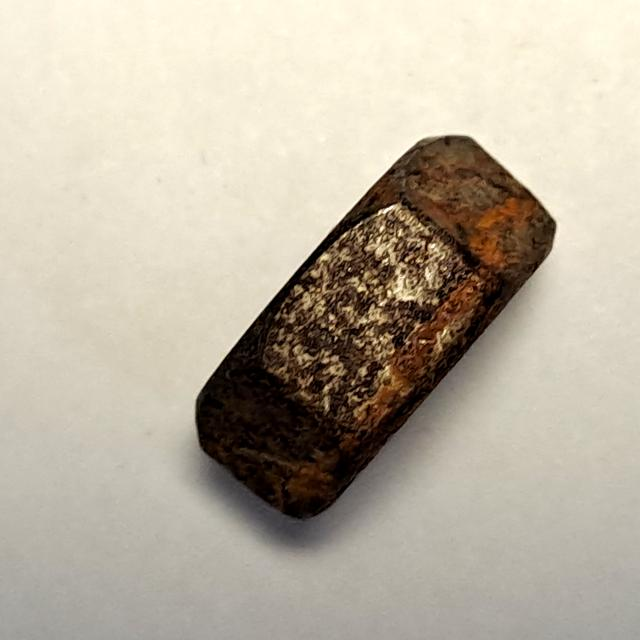Side_Rust: (179, 119, 569, 536)
